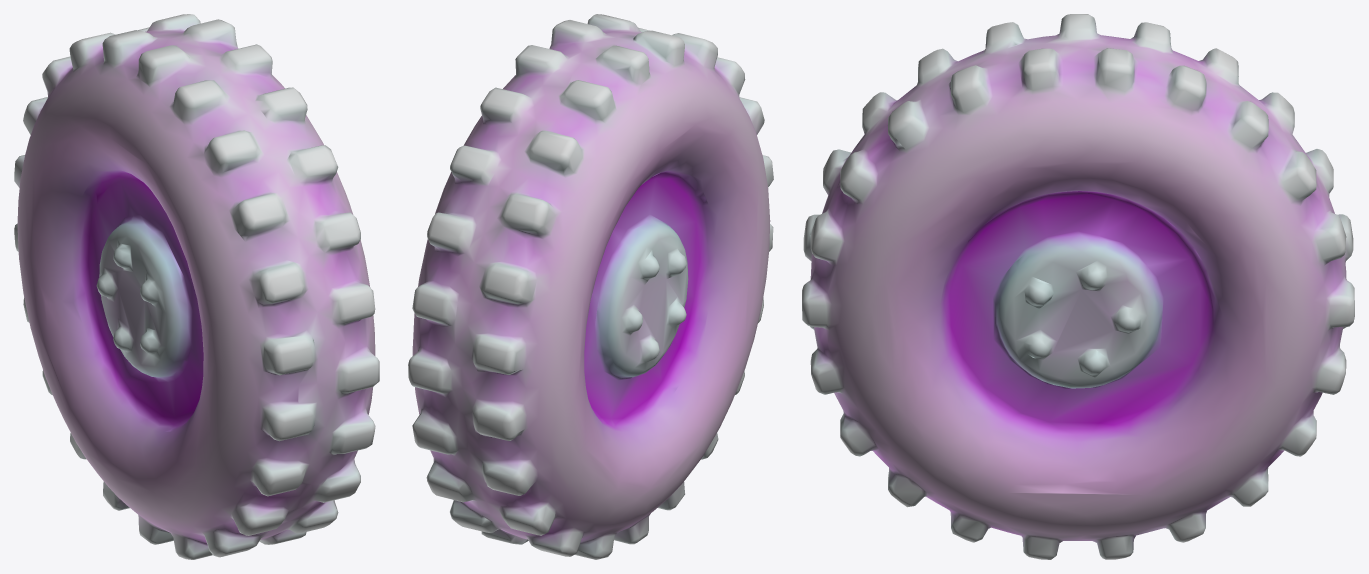
The model's file is jeep-wheel.glb.
3 views of the same model, side by side, from view 1: azimuth 30°, elevation 25°; view 2: azimuth 150°, elevation 25°; view 3: azimuth 270°, elevation 25° (orthographic). The views are drawn at different scales.
Parts seen in each view (by area): view 1: jeep-wheel; view 2: jeep-wheel; view 3: jeep-wheel.
Part boxes in pixels (x1,y1,x2,y2): jeep-wheel: (14, 14, 379, 559); jeep-wheel: (408, 14, 773, 559); jeep-wheel: (802, 14, 1354, 559).
Size of the model in its own units: 0.1344 by 0.4037 by 0.4038.
